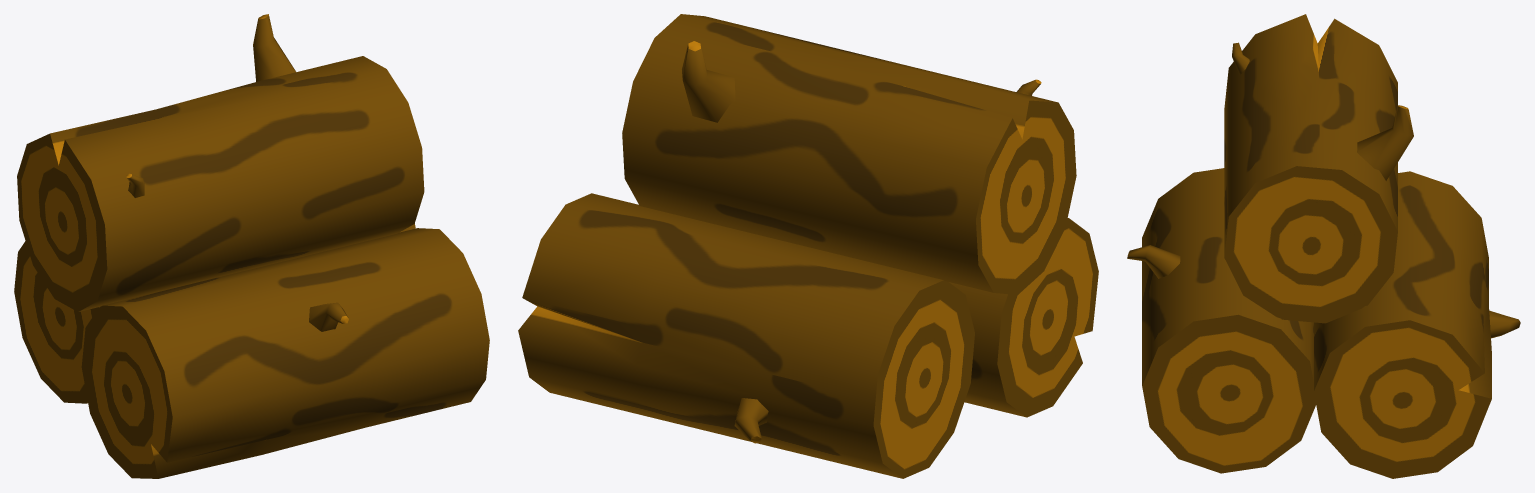
File: Cartoony Logs.fbx
3 views of the same model, side by side, from view 1: azimuth 30°, elevation 25°; view 2: azimuth 150°, elevation 25°; view 3: azimuth 270°, elevation 25° (orthographic). The views are drawn at different scales.
Parts seen in each view (by area): view 1: Cylinder_7; view 2: Cylinder_7; view 3: Cylinder_7.
Part boxes in pixels (left/top/right/bottom): Cylinder_7: left=14, top=14, right=489, bottom=478; Cylinder_7: left=518, top=14, right=1098, bottom=478; Cylinder_7: left=1127, top=14, right=1520, bottom=478.
Size of the model in its own units: 228 by 204 by 223.
1 material, 1 textured.
